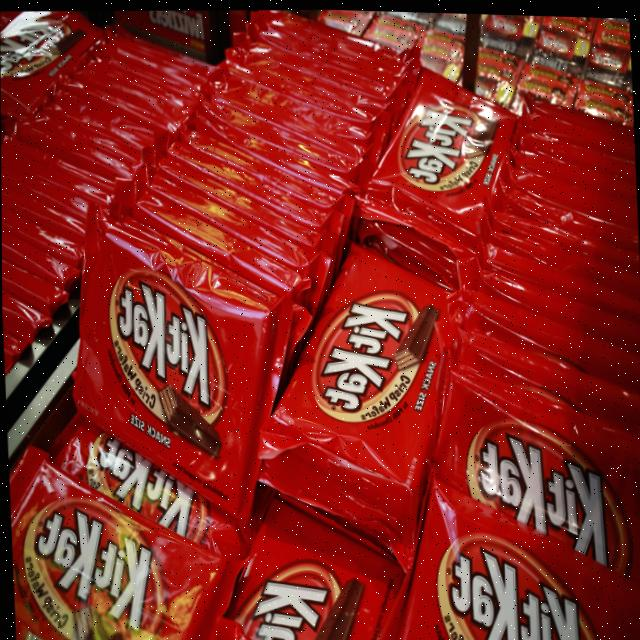kitkat: (247, 230, 472, 587), (65, 188, 300, 521), (7, 431, 235, 640), (385, 473, 640, 640), (355, 55, 521, 255)
